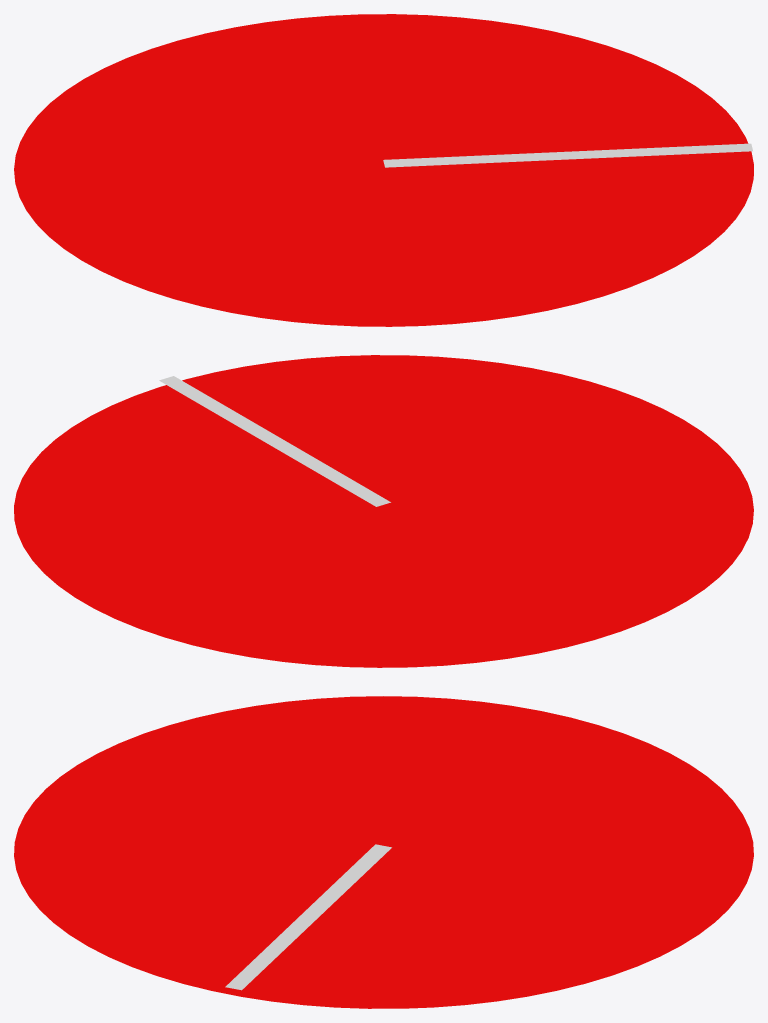
File: result.glb
The picture shows the model from 3 angles, top to bottom: view 1: azimuth 30°, elevation 25°; view 2: azimuth 150°, elevation 25°; view 3: azimuth 270°, elevation 25°; orthographic projection.
Visible parts, largest first — view 1: 5725bbe3-c6cd-44cb-989e-ba319ecff9a0__Circle, f1a30f94-5adc-498f-a5bf-f3c5a397a16c__Plane_1; view 2: 5725bbe3-c6cd-44cb-989e-ba319ecff9a0__Circle, f1a30f94-5adc-498f-a5bf-f3c5a397a16c__Plane_1; view 3: 5725bbe3-c6cd-44cb-989e-ba319ecff9a0__Circle, f1a30f94-5adc-498f-a5bf-f3c5a397a16c__Plane_1.
Boxes of the visible parts, left/top/right/bottom form: 5725bbe3-c6cd-44cb-989e-ba319ecff9a0__Circle: left=14, top=14, right=753, bottom=326; f1a30f94-5adc-498f-a5bf-f3c5a397a16c__Plane_1: left=383, top=143, right=752, bottom=167; 5725bbe3-c6cd-44cb-989e-ba319ecff9a0__Circle: left=14, top=355, right=753, bottom=667; f1a30f94-5adc-498f-a5bf-f3c5a397a16c__Plane_1: left=159, top=376, right=390, bottom=506; 5725bbe3-c6cd-44cb-989e-ba319ecff9a0__Circle: left=14, top=696, right=753, bottom=1008; f1a30f94-5adc-498f-a5bf-f3c5a397a16c__Plane_1: left=225, top=844, right=391, bottom=990.
Size of the model in its own units: 99.95 by 1 by 99.98.
